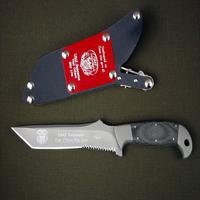knife: (7, 114, 196, 168)
